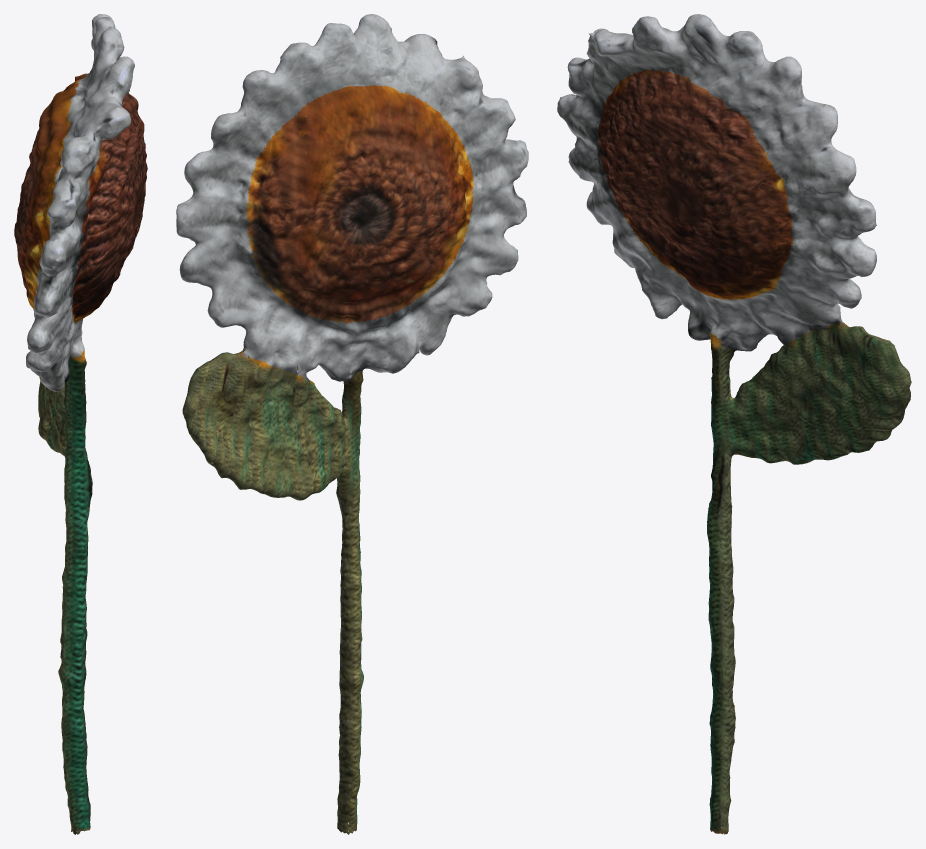
File: sunflower_single.glb
3 renders of one model, left to right at view 1: azimuth 30°, elevation 25°; view 2: azimuth 150°, elevation 25°; view 3: azimuth 270°, elevation 25°, orthographic. The views are drawn at different scales.
Visible parts, largest first — view 1: Sunflower_Petal, Sunflower_Diskfloret, Sunflower_Stem; view 2: Sunflower_Petal, Sunflower_Diskfloret, Sunflower_Stem; view 3: Sunflower_Petal, Sunflower_Diskfloret, Sunflower_Stem.
Boxes of the visible parts, x1,y1,x2,y2 form: Sunflower_Petal: (26,14,134,830); Sunflower_Diskfloret: (14,73,147,323); Sunflower_Stem: (38,349,92,834); Sunflower_Petal: (176,14,528,708); Sunflower_Diskfloret: (246,85,473,323); Sunflower_Stem: (182,347,363,834); Sunflower_Petal: (557,14,901,755); Sunflower_Diskfloret: (598,69,793,299); Sunflower_Stem: (707,322,911,834).
Bounding box in the file's own units: 0.5623 × 2 × 0.7757.
3 materials, 3 textured.
